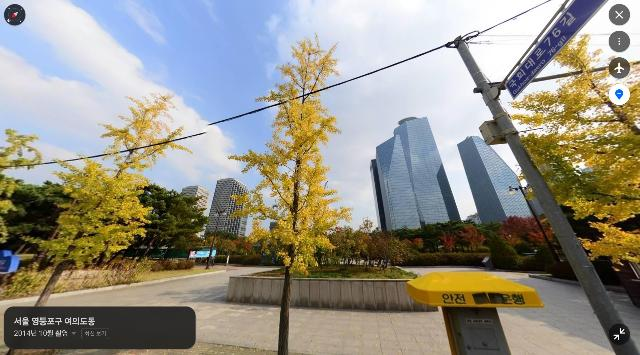ginkgo: (224, 30, 353, 355), (503, 31, 640, 306), (23, 90, 194, 308)
other: (0, 172, 72, 275), (472, 215, 521, 264), (353, 218, 395, 273), (393, 219, 439, 267), (431, 220, 479, 264)
